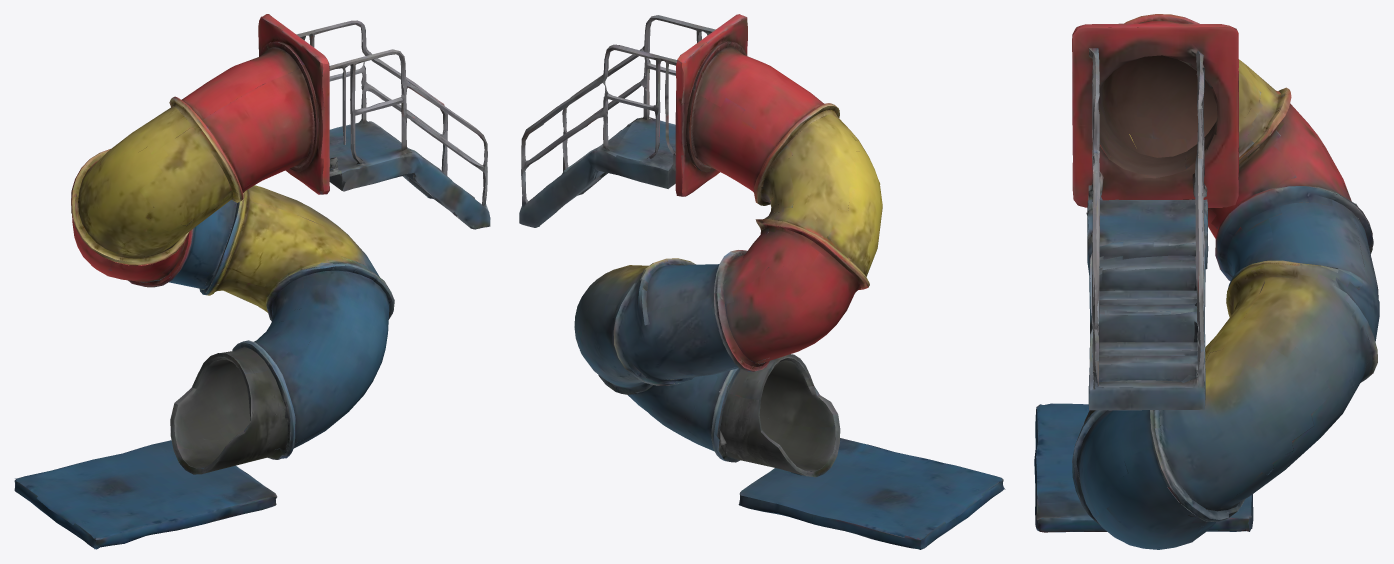
The model's file is slide.glb.
3 renders of one model, left to right at view 1: azimuth 30°, elevation 25°; view 2: azimuth 150°, elevation 25°; view 3: azimuth 270°, elevation 25°, orthographic. The views are drawn at different scales.
Parts seen in each view (by area): view 1: Mesh_0; view 2: Mesh_0; view 3: Mesh_0.
Boxes of the visible parts, left/top/right/bottom form: Mesh_0: left=14, top=14, right=490, bottom=549; Mesh_0: left=519, top=14, right=1005, bottom=549; Mesh_0: left=1034, top=14, right=1379, bottom=549.
Size of the model in its own units: 2.05 by 2 by 1.13.
1 material, 1 textured.
